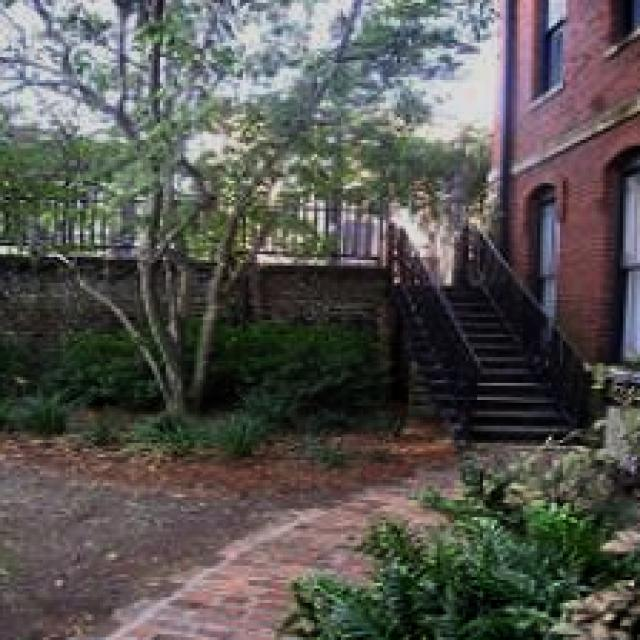upstair: (401, 221, 590, 432)
